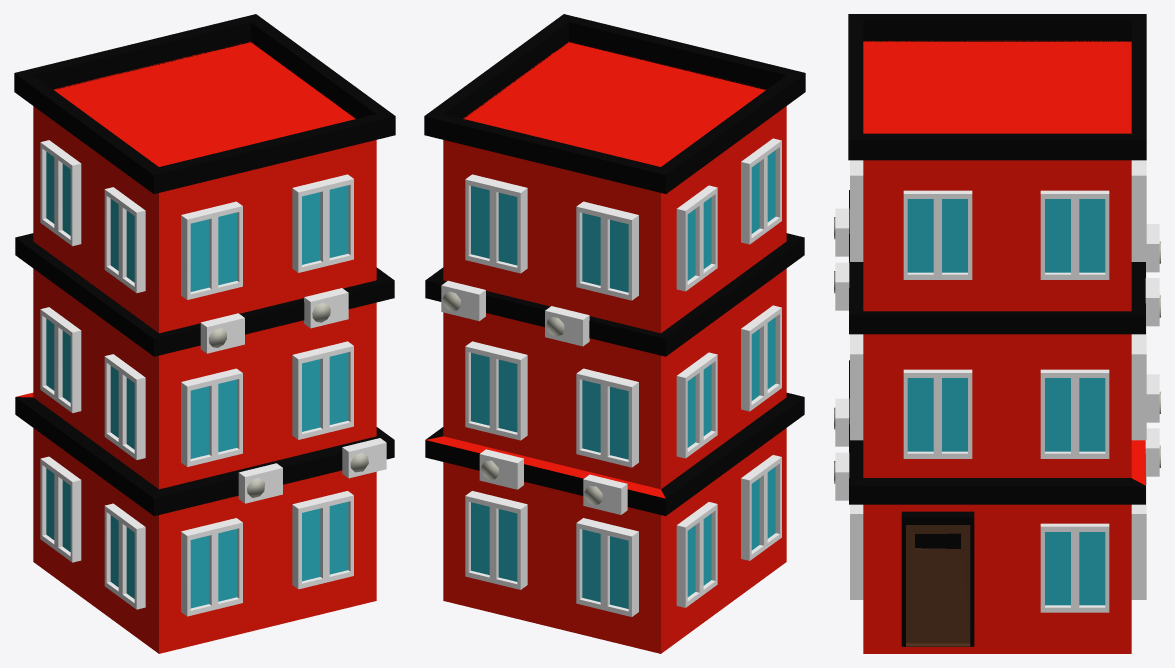
File: Flat1.fbx
3 renders of one model, left to right at view 1: azimuth 30°, elevation 25°; view 2: azimuth 150°, elevation 25°; view 3: azimuth 270°, elevation 25°, orthographic. The views are drawn at different scales.
Parts seen in each view (by area): view 1: flat1; view 2: flat1; view 3: flat1.
Part boxes in pixels (<box>): flat1: <box>14,14,395,653</box>; flat1: <box>424,14,805,653</box>; flat1: <box>834,14,1160,653</box>.
Bounding box in the file's own units: 6.31 × 12.14 × 6.91.
